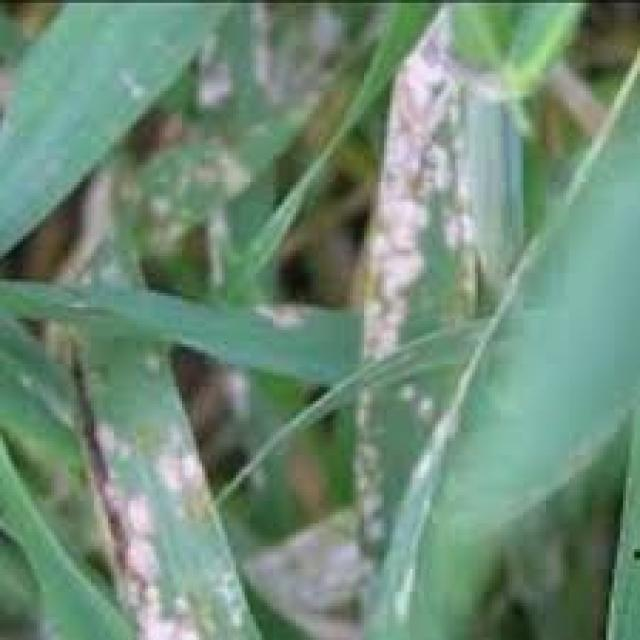Powdery_Mildew: (353, 0, 492, 629), (51, 391, 264, 640)
